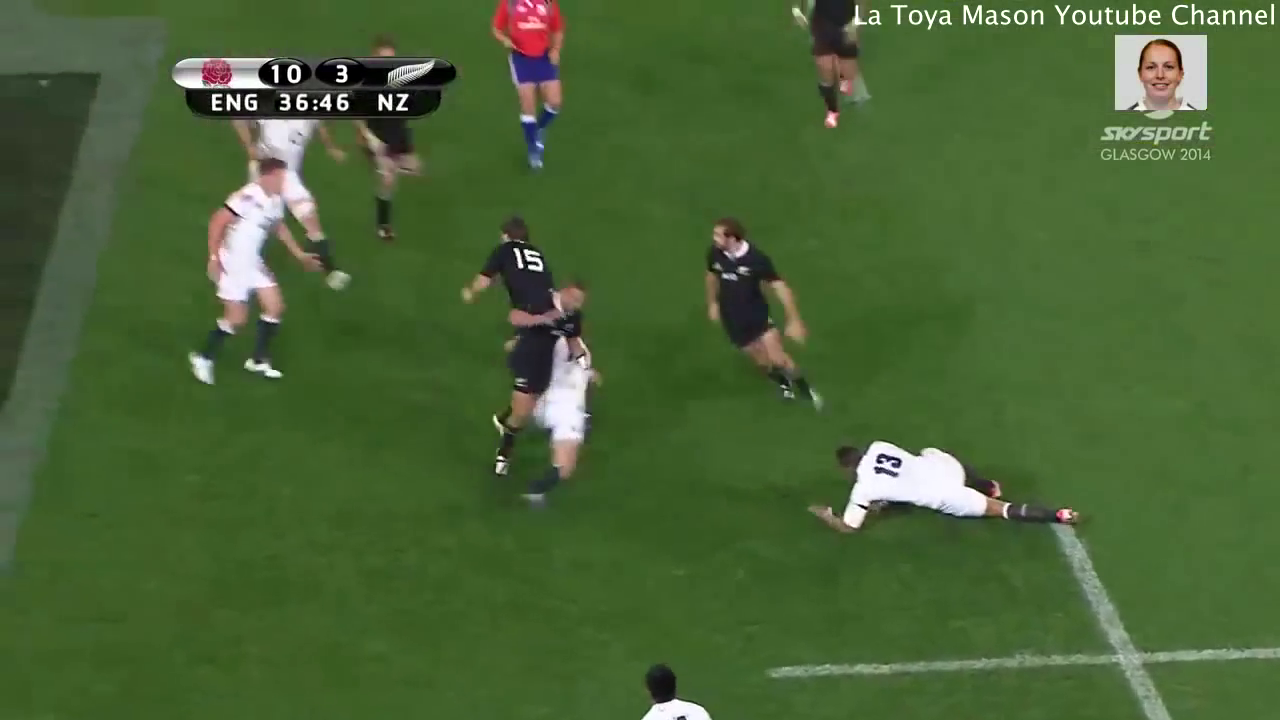10_metre: (758, 511, 1280, 720)
player: (174, 145, 330, 416), (665, 191, 831, 416), (789, 424, 1089, 547), (439, 206, 555, 479), (215, 116, 369, 301), (506, 324, 626, 541), (485, 1, 578, 181), (341, 120, 437, 261), (785, 1, 879, 137), (601, 651, 736, 720), (529, 280, 597, 344)
